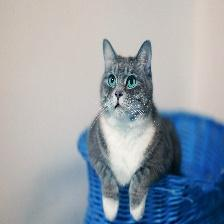kedo: (88, 40, 180, 220)
